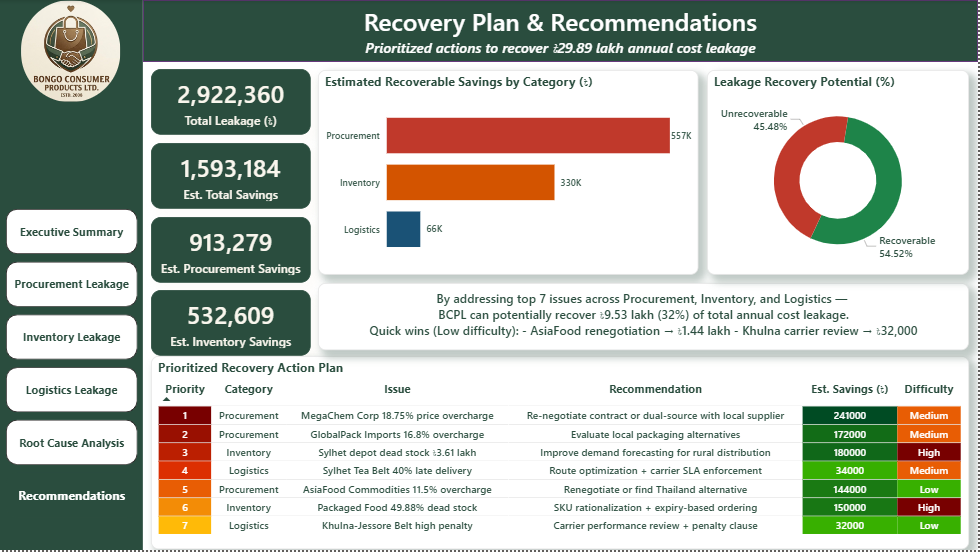

The page's visual inventory and layout, read from the dashboard file:
{"tool":"powerbi","page":{"name":"Recommendations","canvas":[1280,720],"ordinal":5},"visuals":[{"type":"shape","box":[0,0,187.2,720],"z":0},{"type":"image","box":[27.4,0,129.6,133.9],"z":1000},{"type":"card","fields":{"Values":["_Measures.Grand Total Leakage"]},"box":[197.3,90.7,208.8,86.4],"z":2000},{"type":"card","fields":{"Values":["_Measures.Est. Total Savings"]},"box":[197.3,187.2,208.8,86.4],"z":3000},{"type":"card","fields":{"Values":["_Measures.Est. Procurement Savings"]},"box":[197.3,283.7,208.8,86.4],"z":4000},{"type":"card","fields":{"Values":["_Measures.Est. Inventory Savings"]},"box":[197.3,380.2,208.8,86.4],"z":5000},{"type":"textbox","box":[187,0,1093,80.6],"z":6000},{"type":"tableEx","title":"Prioritized Recovery Action Plan","fields":{"Values":["Recommend.Priority","Recommend.Category","Recommend.Issue","Recommend.Recommended Action","Sum(Recommend.Est. Savings (৳))","Recommend.Difficulty"]},"box":[197.3,466.6,1071.4,253.4],"z":7000},{"type":"clusteredBarChart","title":"Estimated Recoverable Savings by Category (৳)","fields":{"Category":["Recommend.Category"],"Y":["Sum(Recommend.Est. Savings (৳))"]},"box":[416.2,92.2,498.2,267.8],"z":8000},{"type":"textbox","box":[416.2,370.1,852.5,87.8],"z":9000},{"type":"donutChart","title":"Leakage Recovery Potential (%)","fields":{"Y":["Sum(Table.Amount)"],"Category":["Table.Label"]},"box":[925.9,92.2,342.7,267.8],"z":10000},{"type":"pageNavigator","box":[7.2,273.6,172.8,406.1],"z":11000}]}

Visuals, with their boxes in screenshot pixels (x1, y1, x2, y2), scaled from the page's 1280x720 canvas onto the 980x552 screenshot:
shape: [0,0,143,551]
image: [21,0,120,103]
card - _Measures.Grand Total Leakage: [151,70,311,136]
card - _Measures.Est. Total Savings: [151,144,311,210]
card - _Measures.Est. Procurement Savings: [151,218,311,284]
card - _Measures.Est. Inventory Savings: [151,291,311,358]
textbox: [143,0,979,62]
"Prioritized Recovery Action Plan" tableEx: [151,358,971,551]
"Estimated Recoverable Savings by Category (৳)" clusteredBarChart: [319,71,700,276]
textbox: [319,284,971,351]
"Leakage Recovery Potential (%)" donutChart: [709,71,971,276]
pageNavigator: [6,210,138,521]
